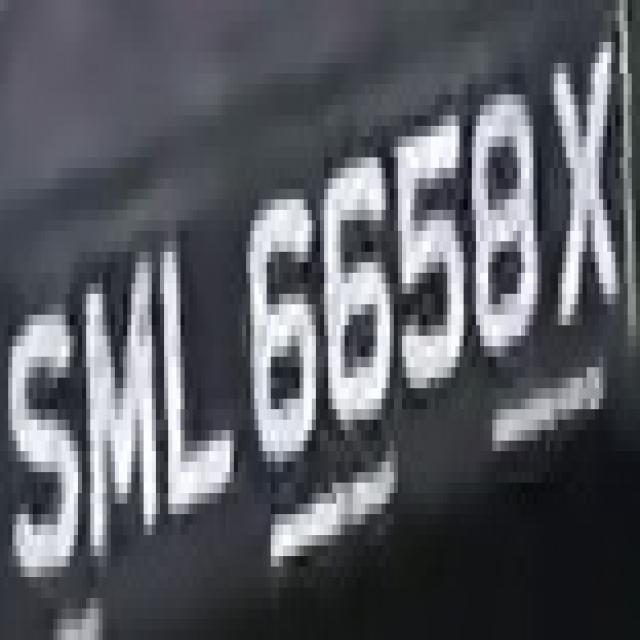5: (381, 105, 472, 409)
6: (312, 126, 402, 462), (238, 168, 324, 493)
8: (459, 74, 550, 346)
L: (152, 210, 242, 556)
M: (74, 231, 172, 556)
S: (4, 273, 82, 598)
X: (541, 21, 636, 346)
